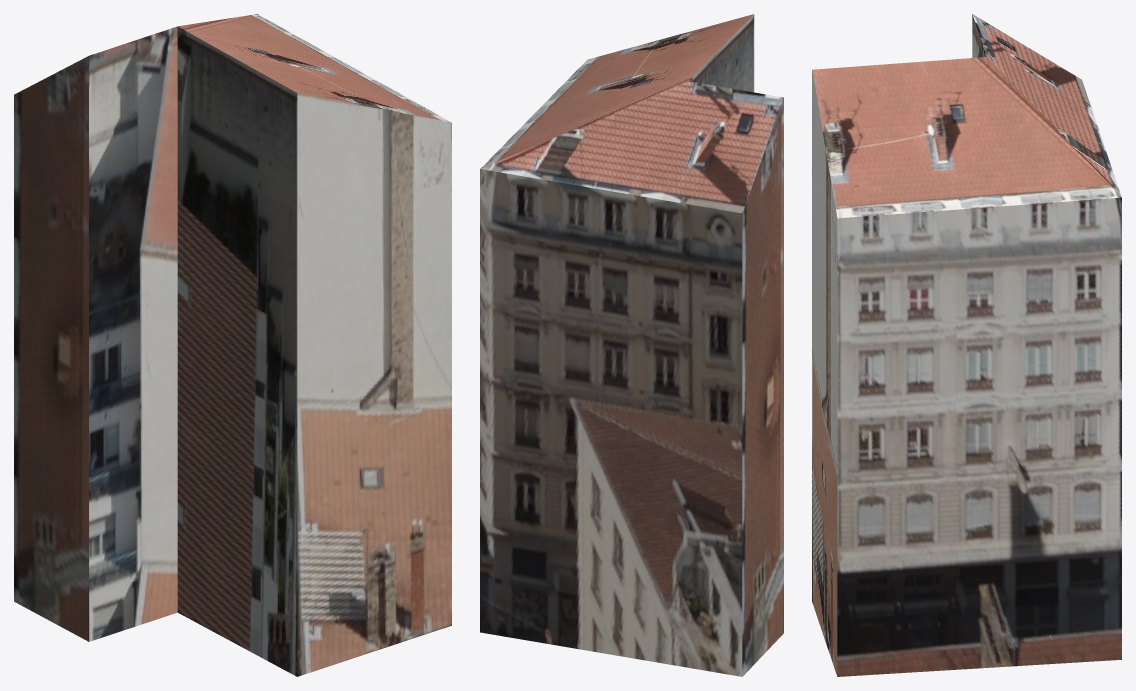
3 views of the same model, side by side, from view 1: azimuth 30°, elevation 25°; view 2: azimuth 150°, elevation 25°; view 3: azimuth 270°, elevation 25° (orthographic). The views are drawn at different scales.
Parts seen in each view (by area): view 1: Z_UP; view 2: Z_UP; view 3: Z_UP.
Part boxes in pixels (x1,y1,x2,y2): Z_UP: (14, 14, 451, 676); Z_UP: (480, 14, 783, 676); Z_UP: (812, 14, 1121, 676).
Bounding box in the file's own units: 14.38 × 26.52 × 13.93.
Materials: 2 (1 with a texture image).
